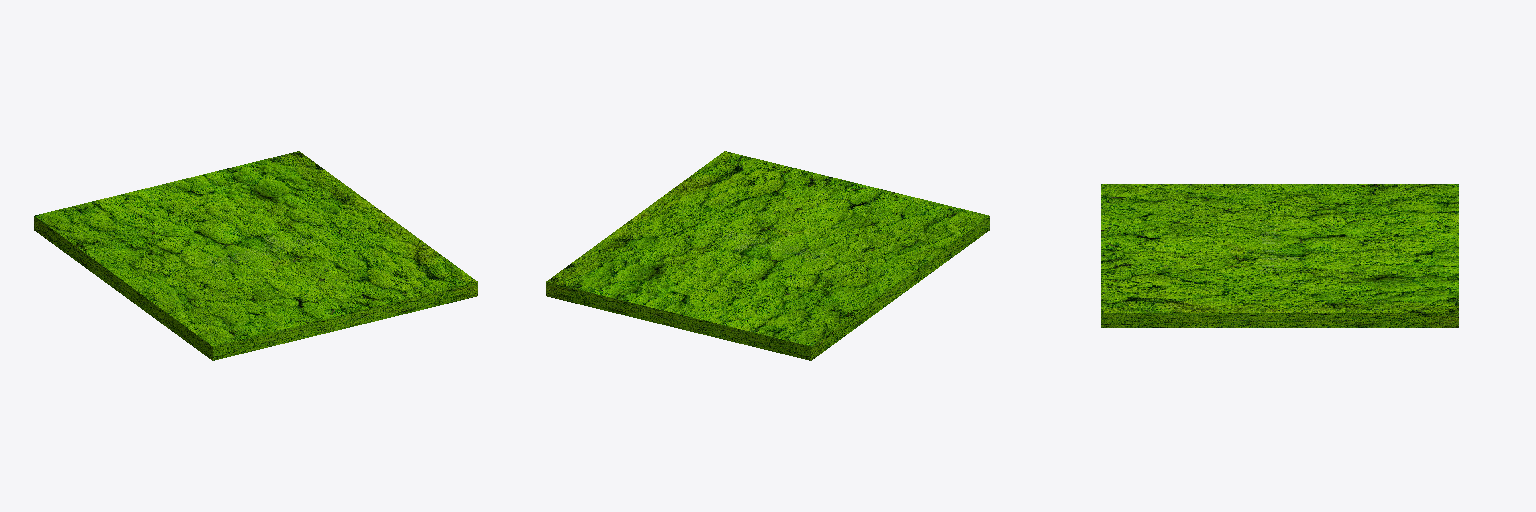
3 renders of one model, left to right at view 1: azimuth 30°, elevation 25°; view 2: azimuth 150°, elevation 25°; view 3: azimuth 270°, elevation 25°, orthographic.
Parts seen in each view (by area): view 1: Cube_Cube.001; view 2: Cube_Cube.001; view 3: Cube_Cube.001.
Part boxes in pixels (bbox=[...]): Cube_Cube.001: bbox=[34, 151, 477, 360]; Cube_Cube.001: bbox=[546, 151, 989, 360]; Cube_Cube.001: bbox=[1101, 184, 1458, 327].
Bounding box in the file's own units: 11.71 × 0.611 × 13.67.
Materials: 1 (1 with a texture image).